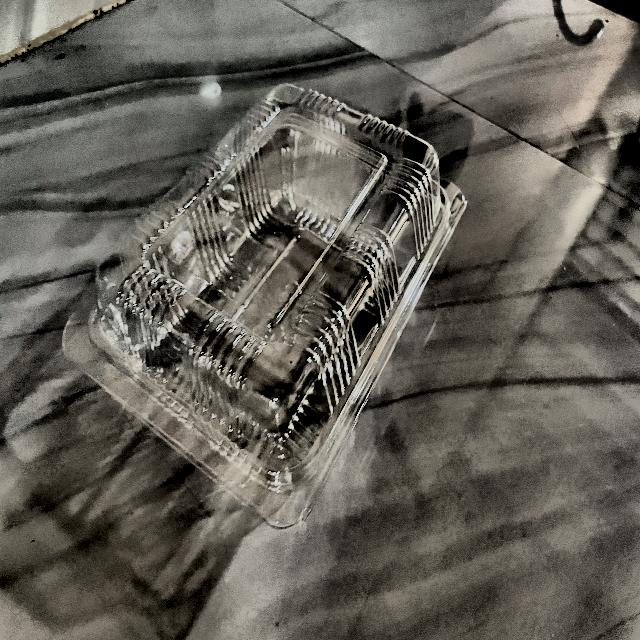plastic container: (78, 73, 459, 510)
